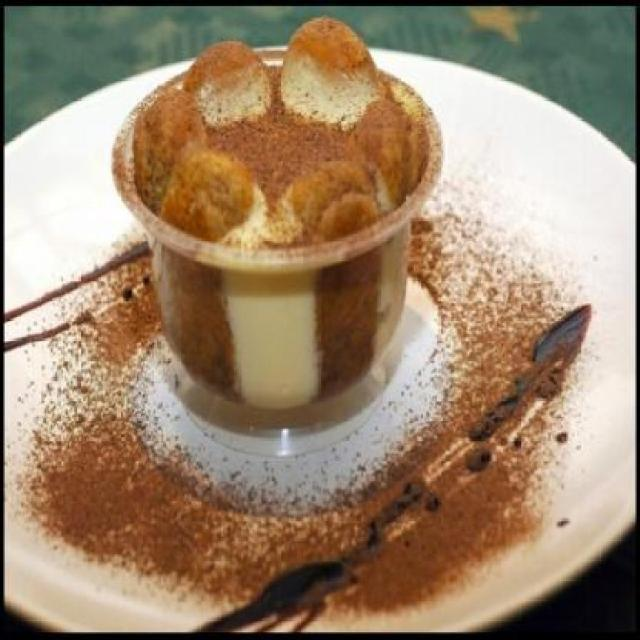Tiramisu: (127, 52, 416, 256)
